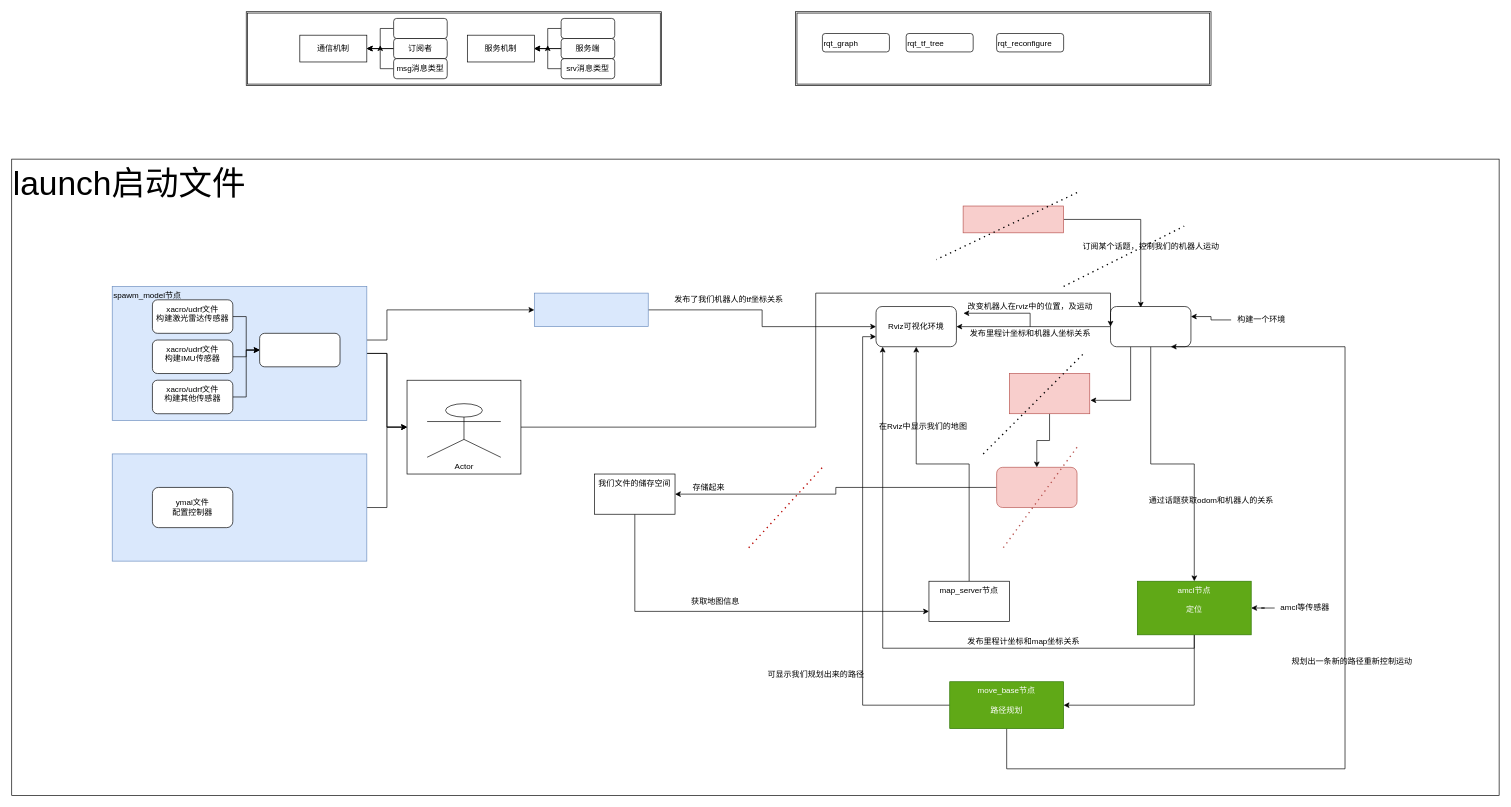
Some shapes in this 1511 by 807 pixel diagram are drawn without their labels. Each missing label, with the box of its shape:
controller_manager包->spwaner节点: (112, 453, 367, 561)
gazebo仿真环境: (1110, 306, 1191, 347)
gmappingj节点 建图: (1009, 373, 1090, 414)
keyboard_teleop节点: (962, 205, 1064, 233)
roobot_state_publisher节点: (534, 292, 648, 327)
shell一些节点工具: (795, 11, 1211, 85)
xacro/udrf文件 构建机器人的主体: (259, 333, 340, 367)
发布者: (393, 18, 447, 39)
图的参数信息文件ymal 和图片: (996, 467, 1077, 508)
客户端: (560, 18, 615, 39)
节点: (246, 11, 662, 85)
